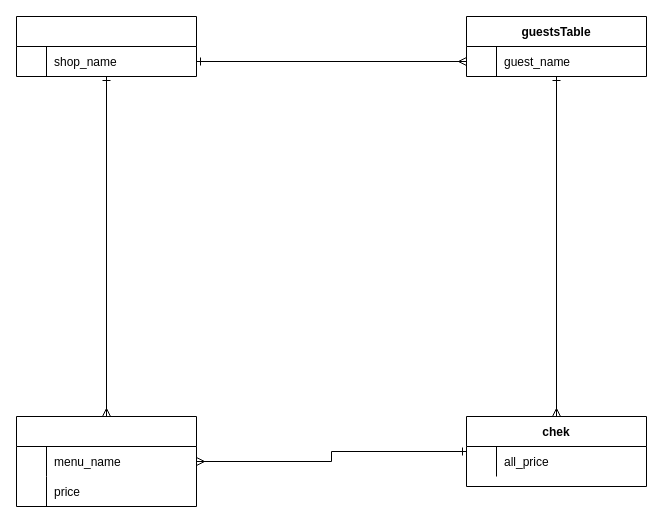
The diagram is 663 pixels wide and 523 high, and some of its shapes have lost their labels. Here are the shapes that lost their labels. From the top down, the box of each, then its label:
(16, 16, 196, 76): shops Table
(16, 416, 196, 506): menus Table
